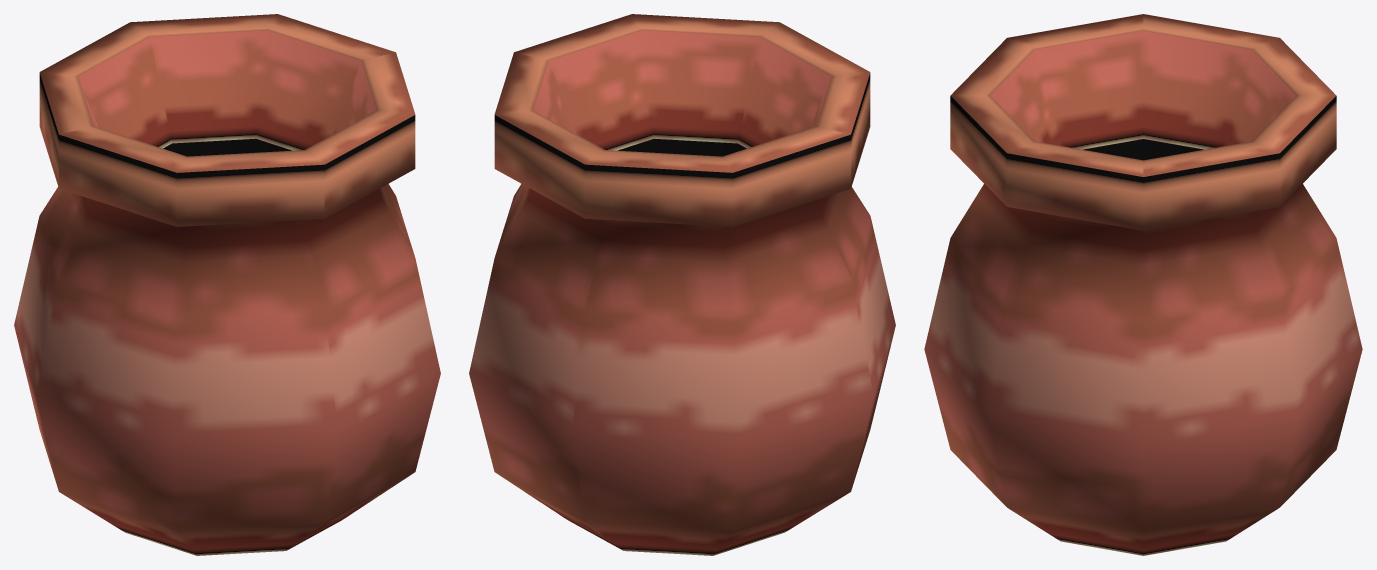
Rendered from deco_vesselA.FBX.
3 views of the same model, side by side, from view 1: azimuth 30°, elevation 25°; view 2: azimuth 150°, elevation 25°; view 3: azimuth 270°, elevation 25° (orthographic).
Visible parts, largest first — view 1: deco_vesselA; view 2: deco_vesselA; view 3: deco_vesselA.
Boxes of the visible parts, bbox=[...] form: deco_vesselA: bbox=[14, 14, 440, 555]; deco_vesselA: bbox=[469, 14, 895, 555]; deco_vesselA: bbox=[924, 14, 1362, 555].
Size of the model in its own units: 1.36 by 1.41 by 1.36.
Materials: 1 (1 with a texture image).
